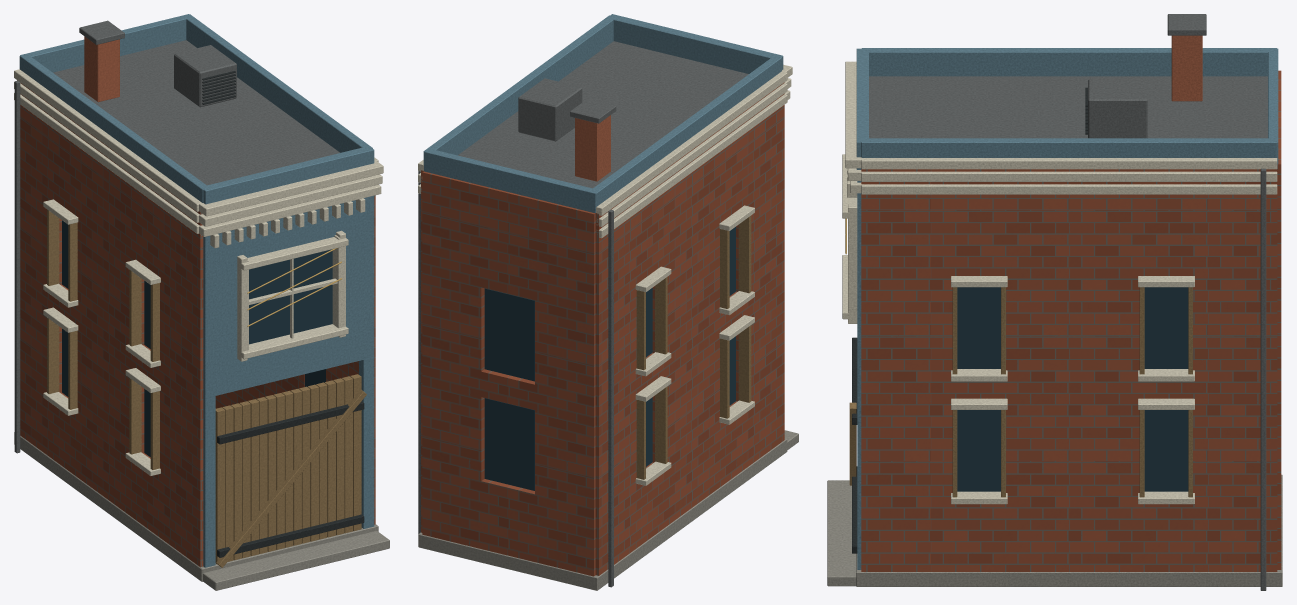
File: WRHS6_lod1.glb
The picture shows the model from 3 angles, left to right: view 1: azimuth 30°, elevation 25°; view 2: azimuth 150°, elevation 25°; view 3: azimuth 270°, elevation 25°; orthographic projection. The views are drawn at different scales.
Visible parts, largest first — view 1: WRHS6_LOD1; view 2: WRHS6_LOD1; view 3: WRHS6_LOD1.
Part boxes in pixels (x1=…): WRHS6_LOD1: x1=14, y1=14, x2=389, y2=590; WRHS6_LOD1: x1=418, y1=14, x2=798, y2=590; WRHS6_LOD1: x1=827, y1=14, x2=1282, y2=590.
Bounding box in the file's own units: 3.71 × 7.85 × 6.57.
Materials: 11 (8 with a texture image).
